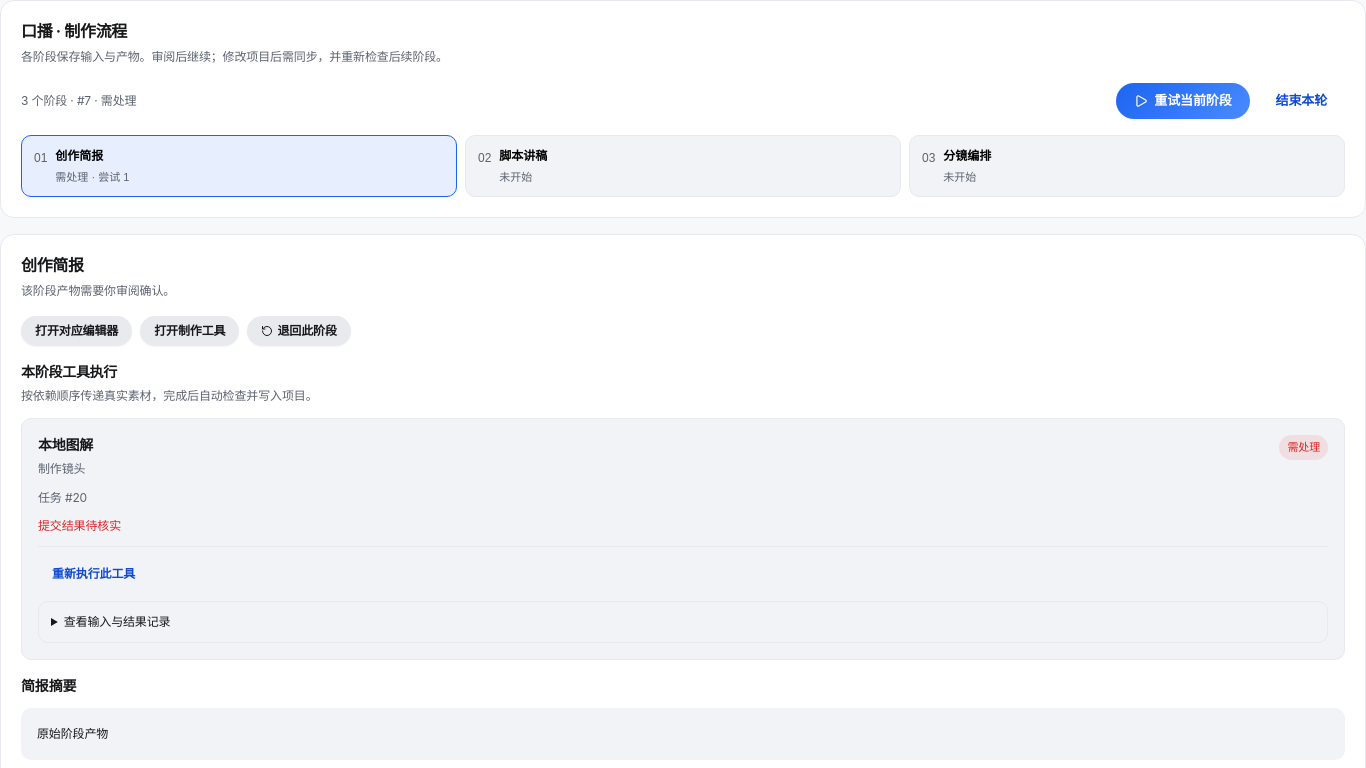
it: offers local tool retry without asking for an unrelated provider task ID
Expected: the heading "本地图解" is shown, 38,436 -> 93,452
Click the button "重新执行此工具": [94, 574] box 38,559 -> 149,589
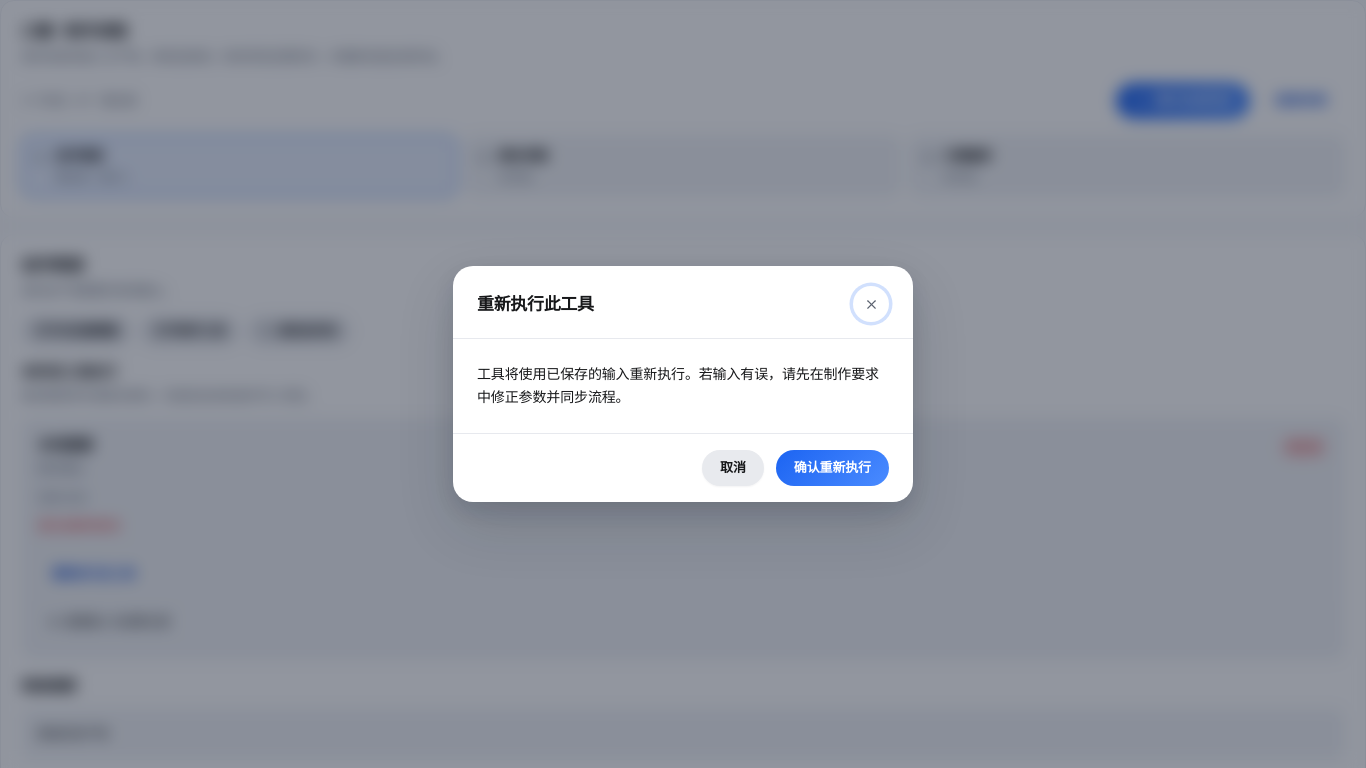
Expected: the dialog shows "修正参数并同步流程", 477,365 -> 879,405
